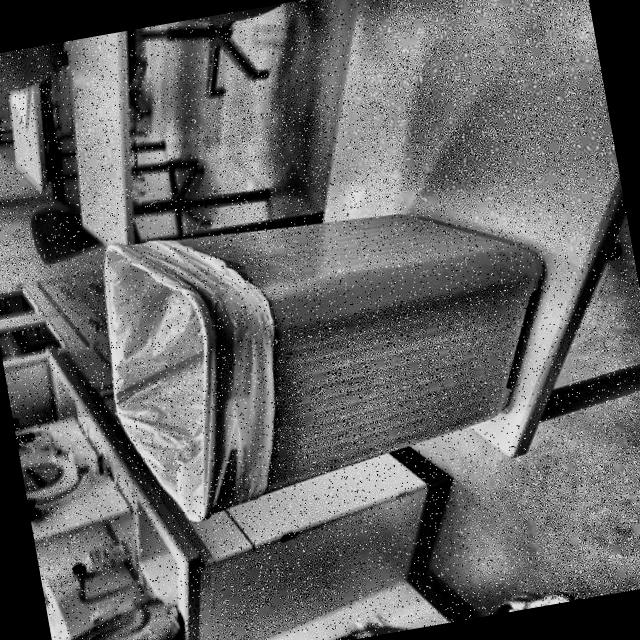Dustbin: (45, 127, 612, 548)
